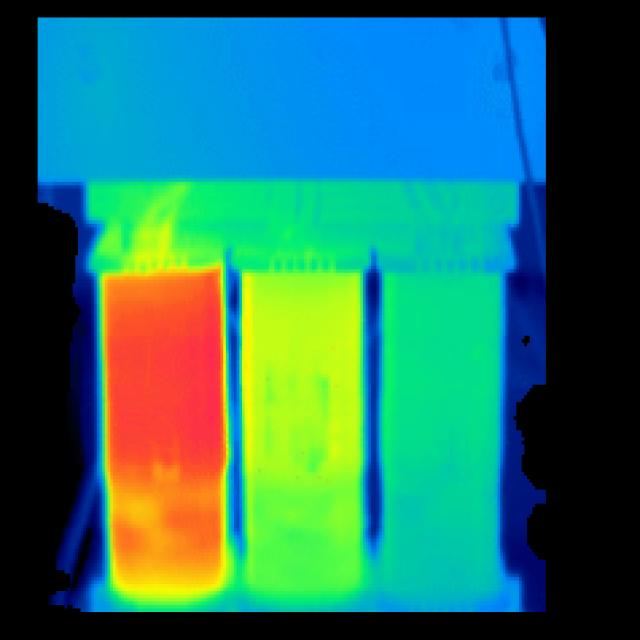Transformer Overload: (95, 253, 368, 608)
